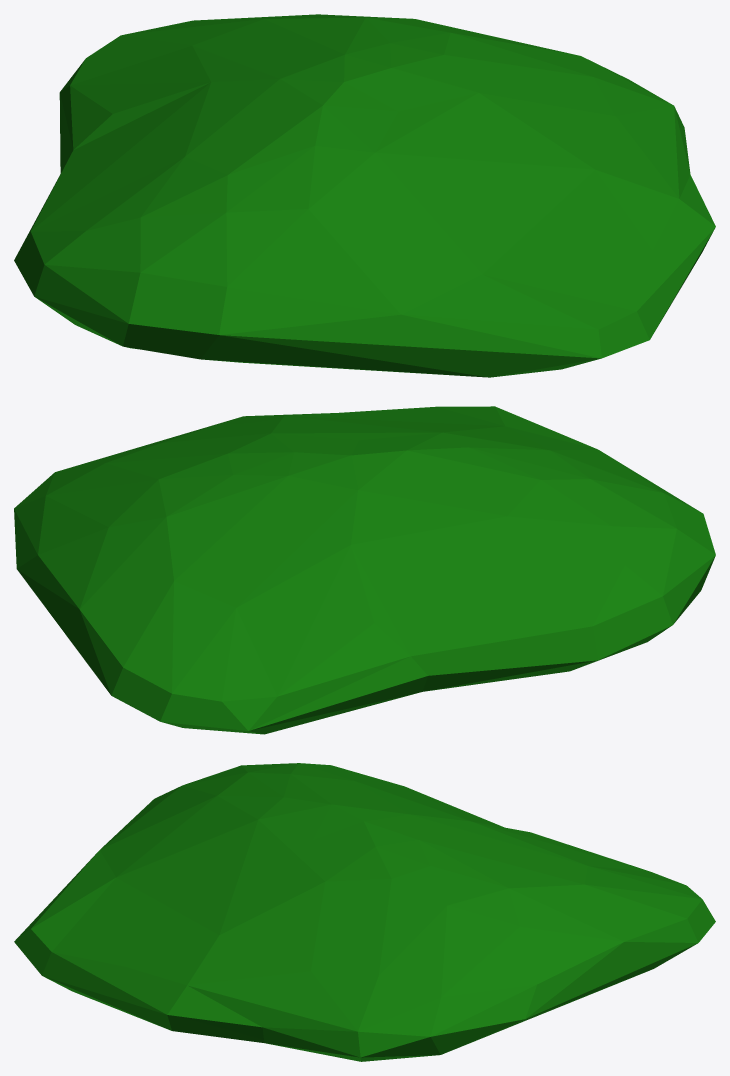
Rendered from grass_platform.fbx.
3 renders of one model, top to bottom at view 1: azimuth 30°, elevation 25°; view 2: azimuth 150°, elevation 25°; view 3: azimuth 270°, elevation 25°, orthographic. The views are drawn at different scales.
Parts seen in each view (by area): view 1: Earth; view 2: Earth; view 3: Earth.
Part boxes in pixels (bbox=[...]): Earth: bbox=[14, 14, 715, 377]; Earth: bbox=[14, 406, 715, 734]; Earth: bbox=[14, 763, 715, 1061].
Size of the model in its own units: 510 by 125 by 573.
